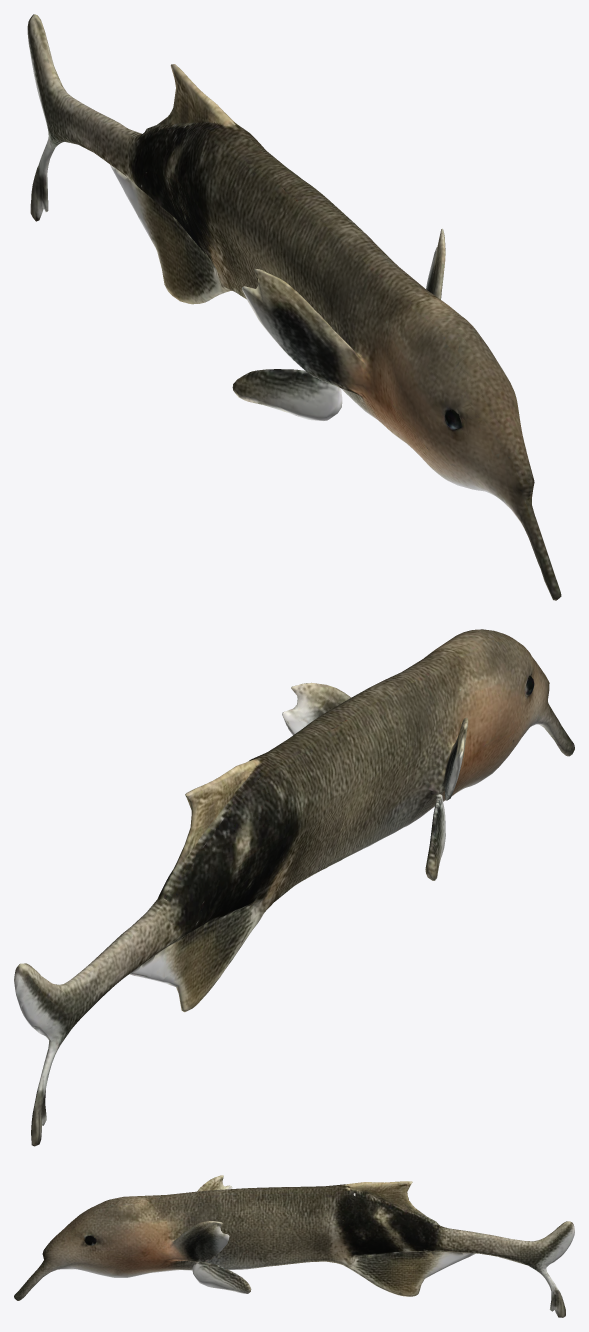
Rendered from elephantfish.glb.
3 views of the same model, one above another, from view 1: azimuth 30°, elevation 25°; view 2: azimuth 150°, elevation 25°; view 3: azimuth 270°, elevation 25° (orthographic). The views are drawn at different scales.
Parts seen in each view (by area): view 1: geometry_0; view 2: geometry_0; view 3: geometry_0.
Boxes of the visible parts, x1,y1,x2,y2 form: geometry_0: [27, 14, 561, 600]; geometry_0: [14, 629, 574, 1146]; geometry_0: [14, 1175, 574, 1317].
Size of the model in its own units: 0.1994 by 0.2639 by 1.
1 material, 1 textured.
